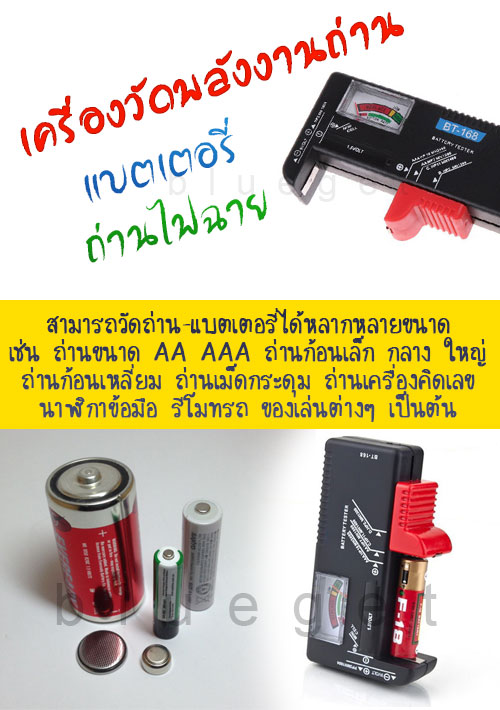Battery: (43, 454, 149, 625), (180, 496, 224, 612), (389, 555, 429, 663), (153, 545, 184, 642), (75, 629, 129, 676), (140, 643, 174, 677)
